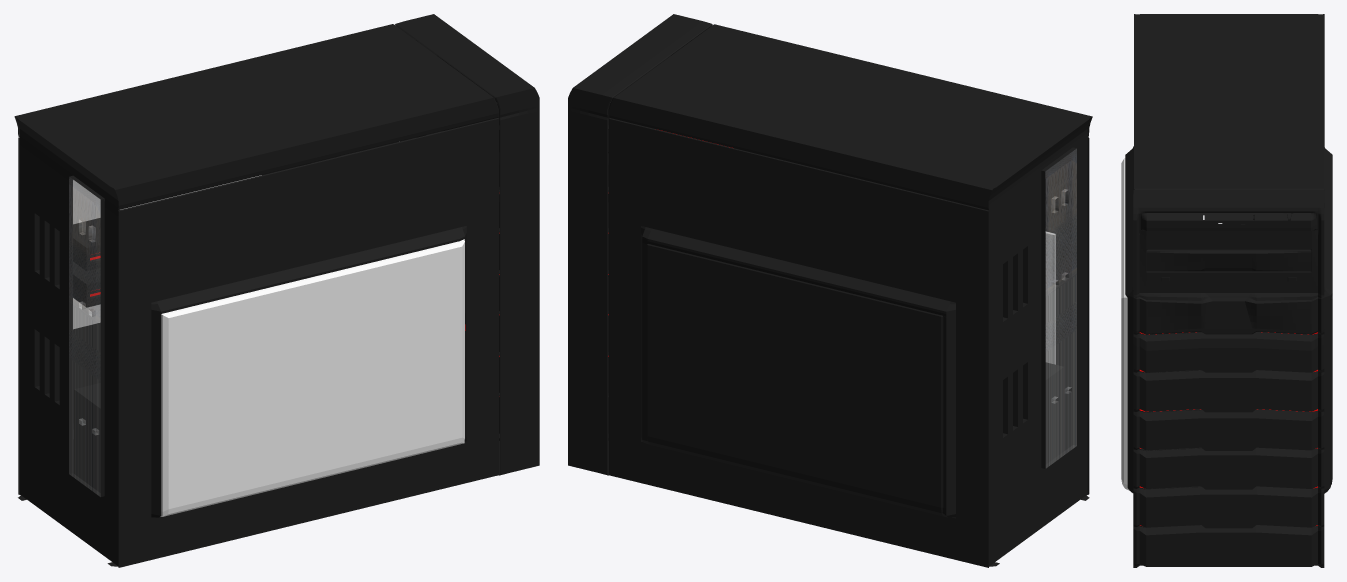
3 views of the same model, side by side, from view 1: azimuth 30°, elevation 25°; view 2: azimuth 150°, elevation 25°; view 3: azimuth 270°, elevation 25° (orthographic). The views are drawn at different scales.
Visible parts, largest first — view 1: Cube, Cube.003, Cube.001, Cube.004, Cube.005; view 2: Cube, Cube.003; view 3: Cube.
Part boxes in pixels (x1,y1,x2,y2): Cube: (14,14,539,567); Cube.003: (74,383,100,492); Cube.001: (73,175,261,329); Cube.004: (73,218,100,270); Cube.005: (73,261,100,307); Cube: (568,14,1092,567); Cube.003: (1045,362,1064,464); Cube: (1121,14,1332,567).
Size of what is drawn, in the model's own units: 4.95 by 4.17 by 2.23.
Materials: 5 (1 with a texture image).
